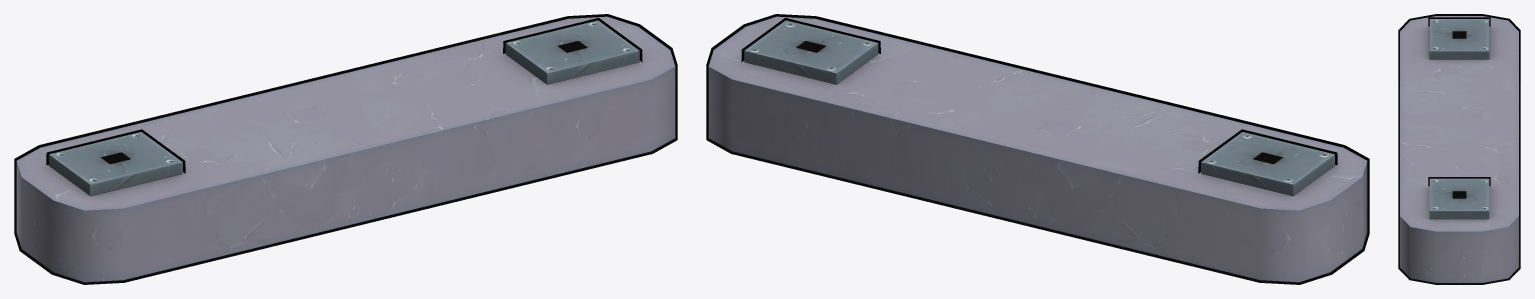
Rendered from Light.fbx.
The picture shows the model from 3 angles, left to right: view 1: azimuth 30°, elevation 25°; view 2: azimuth 150°, elevation 25°; view 3: azimuth 270°, elevation 25°; orthographic projection. The views are drawn at different scales.
Parts seen in each view (by area): view 1: Lights; view 2: Lights; view 3: Lights.
Boxes of the visible parts, x1=… form: Lights: x1=14, y1=14, x2=677, y2=284; Lights: x1=706, y1=14, x2=1369, y2=284; Lights: x1=1398, y1=14, x2=1520, y2=284.
Size of the model in its own units: 118 by 28.19 by 15.77.
